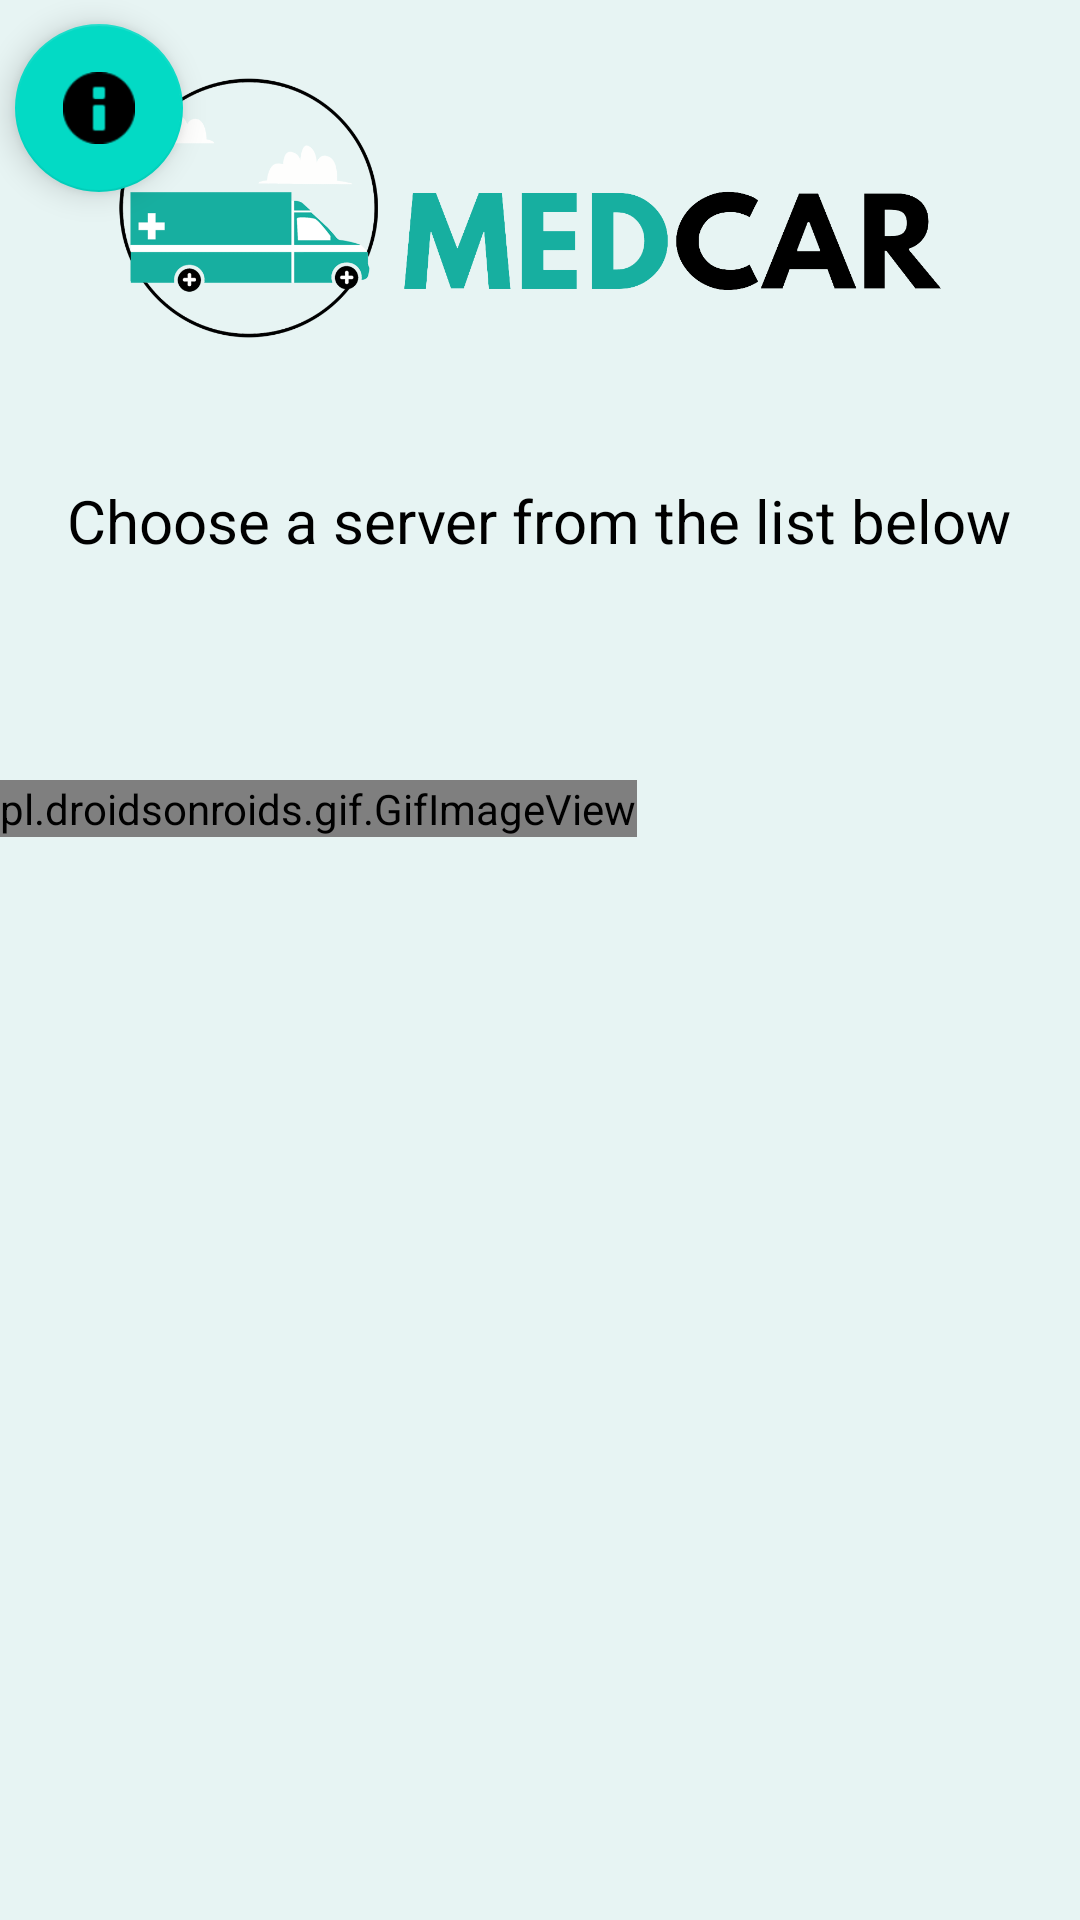

Where icons sit on this 1080 x 1920 app screen, as detection(x1, y1, x2, y2):
info: detection(15, 24, 183, 192)
